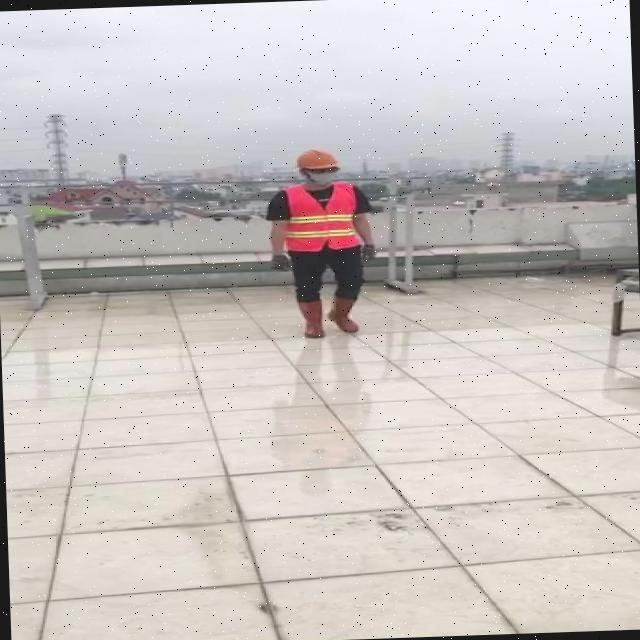boots: (325, 294, 361, 336), (296, 301, 326, 340)
helmet: (292, 146, 342, 172)
vest: (284, 182, 358, 248)
